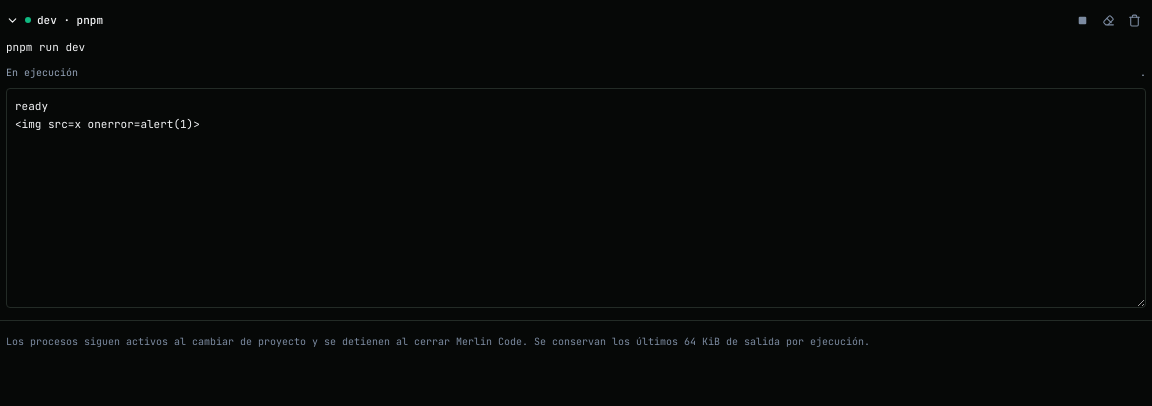
Scenario: application execution controls › retains the entry if the backend cannot stop and remove it
Click the button named "Eliminar ejecución": (1134, 20) [1122, 8, 1146, 32]
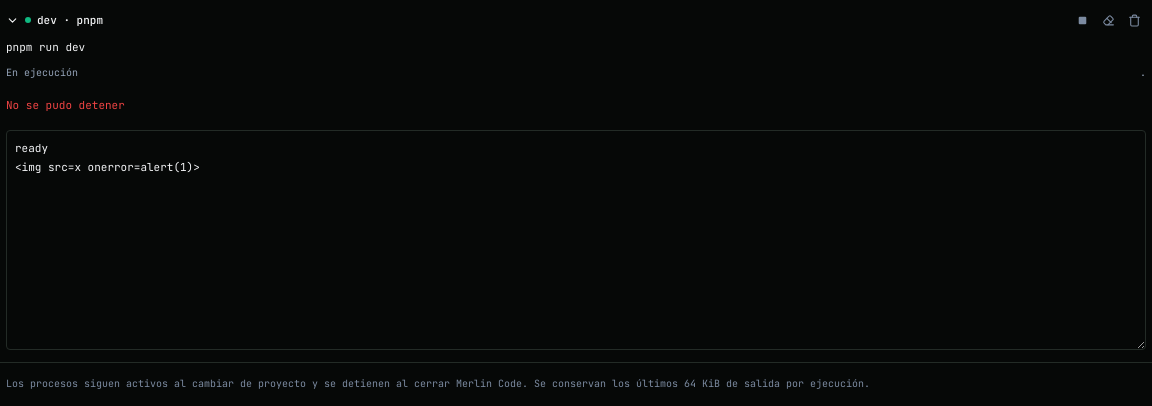
Expected: the message "No se pudo detener" is shown, [6, 98, 125, 112]
